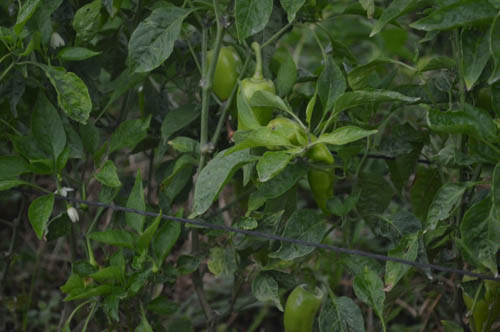ChiliPepper: (274, 125, 332, 165), (239, 81, 276, 125), (284, 287, 322, 329), (209, 46, 239, 98)
